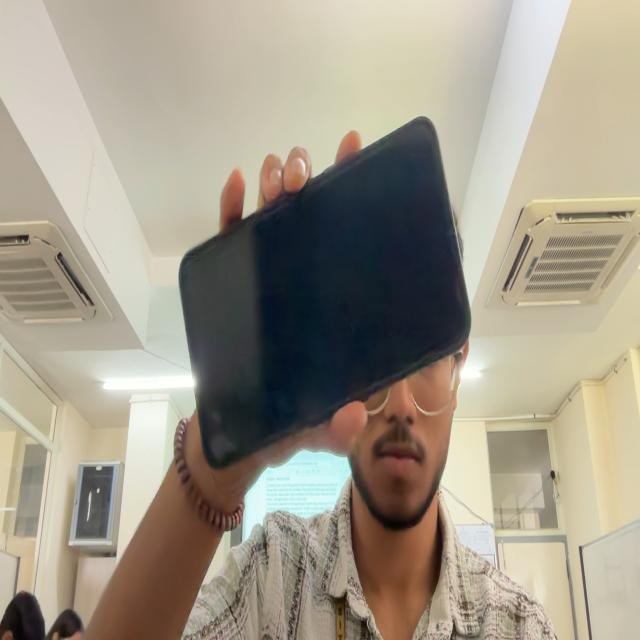Useful: (179, 117, 471, 468)
